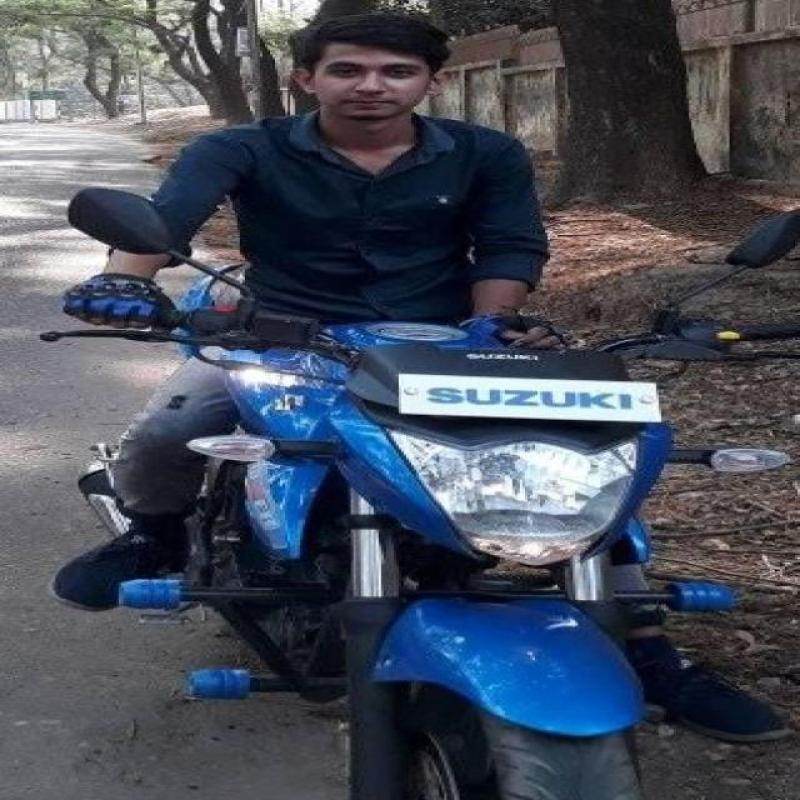nohelmet: (292, 26, 447, 133)
